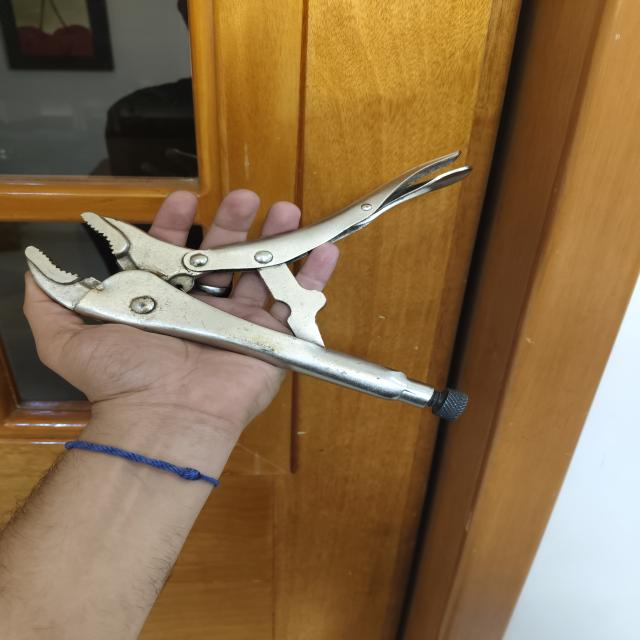PinzasPresion: (10, 138, 521, 430)
